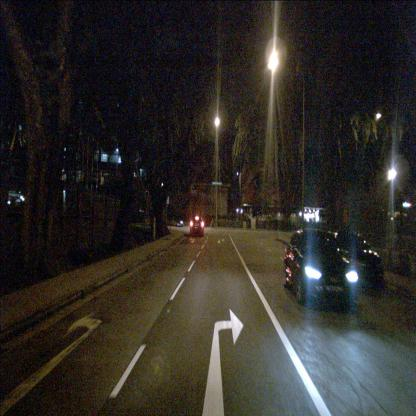vehicle-car: (285, 228, 357, 312), (322, 230, 383, 288), (131, 209, 153, 225), (190, 215, 204, 237), (237, 204, 254, 218), (176, 220, 184, 228)
